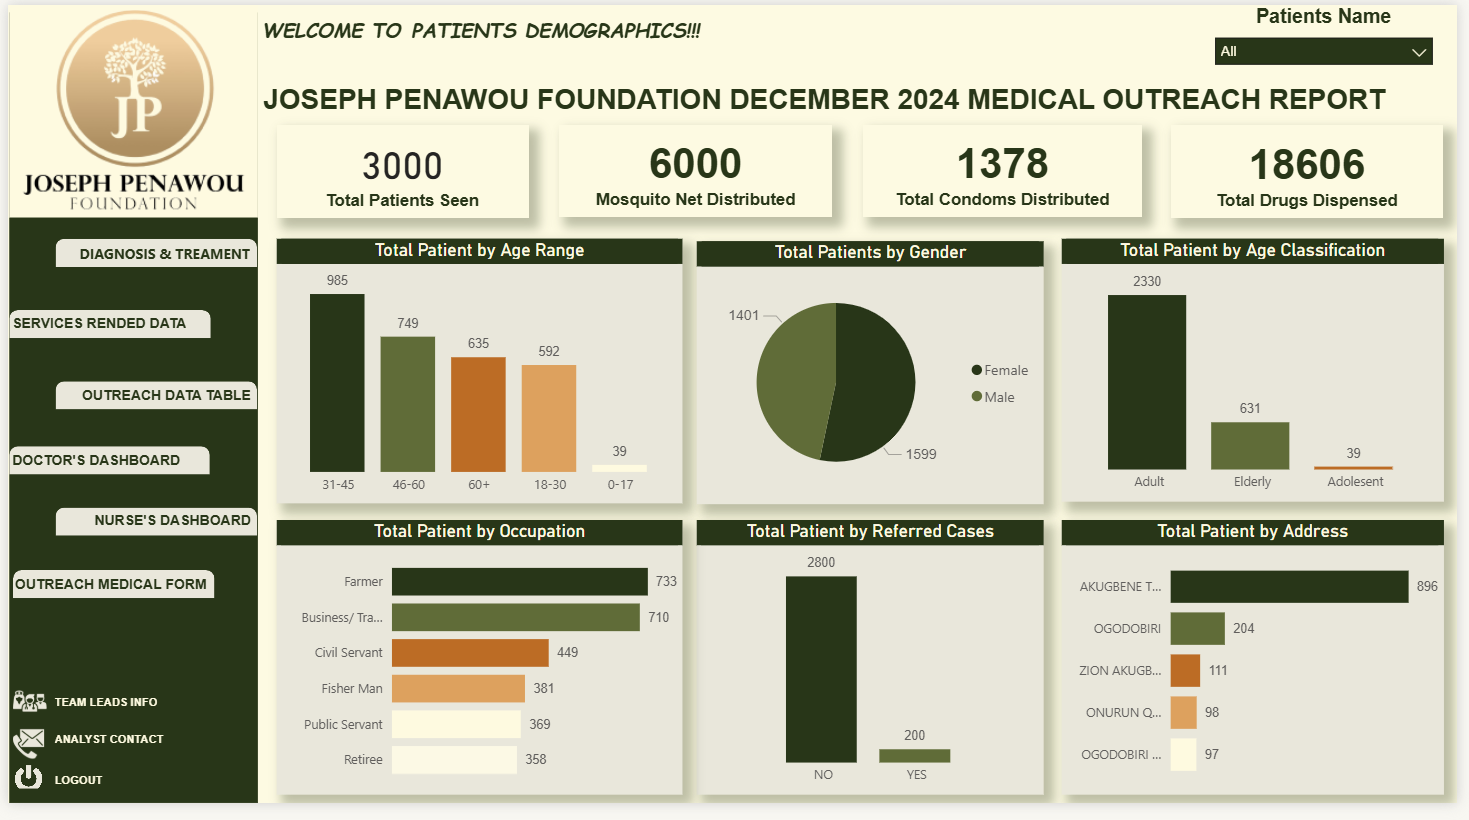

Layout of this report page (visuals, bound fields, positions):
{"tool":"powerbi","page":{"name":"PATIENT DEMOGRAPHICS","canvas":[1380,760],"ordinal":0},"visuals":[{"type":"shape","box":[1.2,6.7,237.1,752.8],"z":0,"group":"g10"},{"type":"shape","box":[45,222.6,192.1,27],"z":0,"group":"g4"},{"type":"shape","box":[1,291,192.1,27],"z":0,"group":"g5"},{"type":"shape","box":[45,358.5,192.1,27],"z":0,"group":"g3"},{"type":"shape","box":[1.2,420.3,191,27],"z":0,"group":"g2"},{"type":"shape","box":[45,477.6,192.1,27],"z":0,"group":"g1"},{"type":"shape","box":[4.4,539.1,192.1,27],"z":0,"group":"g6"},{"type":"actionButton","box":[40.6,647.2,119.1,34.8],"z":0,"group":"g7"},{"type":"image","box":[0,683.1,39.3,41.6],"z":0,"group":"g8"},{"type":"actionButton","box":[40.7,721.4,69.7,34.8],"z":0,"group":"g9"},{"type":"image","box":[1.2,0,237.1,202.2],"z":1000,"group":"g10"},{"type":"actionButton","box":[56.2,217,178.7,39.3],"z":1000,"group":"g4"},{"type":"actionButton","box":[-0.1,283.8,174.2,39.3],"z":1000,"group":"g5"},{"type":"actionButton","box":[48.4,352.9,186.5,39.3],"z":1000,"group":"g3"},{"type":"actionButton","box":[-0.1,413.9,186.5,39.3],"z":1000,"group":"g2"},{"type":"actionButton","box":[48.4,470.9,186.5,39.3],"z":1000,"group":"g1"},{"type":"actionButton","box":[1.2,532.7,193.3,39.3],"z":1000,"group":"g6"},{"type":"image","box":[0,636,41.6,53.9],"z":1000,"group":"g7"},{"type":"actionButton","box":[40.6,682,118,34.8],"z":1000,"group":"g8"},{"type":"image","box":[0.3,719.2,39.3,32.6],"z":1000,"group":"g9"},{"type":"textbox","box":[237.5,70.5,1094.3,44.3],"z":2000},{"type":"slicer","title":"Patients Name","fields":{"Values":["OUTREACH DATASET.PATIENT NAME"]},"box":[1139.8,0,227.3,61.4],"z":3000},{"type":"card","fields":{"Values":["CountNonNull(OUTREACH DATASET.PATIENT NAME)"]},"box":[255.7,114.8,239.8,88.6],"z":4000},{"type":"card","fields":{"Values":["Sum(OUTREACH DATASET.MOSQUITO NET DISTRUBUTED)"]},"box":[525,114.8,260.2,87.5],"z":5000},{"type":"card","fields":{"Values":["Sum(OUTREACH DATASET.CONDOMS DISTRIBUTED)"]},"box":[814.8,114.8,265.9,87.5],"z":6000},{"type":"card","fields":{"Values":["Sum(OUTREACH DATASET.QUANTITY OF DRUGS DISPENSED)"]},"box":[1106.8,114.8,260.2,88.6],"z":7000},{"type":"columnChart","title":"Total Patient by Age Range","fields":{"Category":["OUTREACH DATASET.AGE_RANGE"],"Y":["CountNonNull(OUTREACH DATASET.PATIENT NAME)"]},"box":[255.7,222.7,386.4,252.3],"z":8000},{"type":"pieChart","title":"Total Patients by Gender","fields":{"Y":["CountNonNull(OUTREACH DATASET.PATIENT NAME)"],"Category":["OUTREACH DATASET.GENDER"]},"box":[655.7,225,330.7,250],"z":9000},{"type":"columnChart","title":"Total Patient by Referred Cases","fields":{"Y":["CountNonNull(OUTREACH DATASET.PATIENT NAME)"],"Category":["OUTREACH DATASET.REFERRED (YES/NO)"]},"box":[655.7,490.9,330.7,261.4],"z":10000},{"type":"barChart","title":"Total Patient by Occupation","fields":{"Y":["CountNonNull(OUTREACH DATASET.PATIENT NAME)"],"Category":["OUTREACH DATASET.OCCUPATION"]},"box":[255.7,490.9,386.4,261.4],"z":11000},{"type":"columnChart","title":"Total Patient  by Age Classification","fields":{"Category":["Age Classification.Age Classification"],"Y":["CountNonNull(OUTREACH DATASET.PATIENT NAME)"]},"box":[1003.4,222.7,363.6,250],"z":12000},{"type":"barChart","title":"Total Patient by Address","fields":{"Category":["OUTREACH DATASET.PATIENT ADDRESS"],"Y":["CountNonNull(OUTREACH DATASET.PATIENT NAME)"]},"box":[1003.4,490.9,363.6,261.4],"z":13000},{"type":"textbox","box":[237.1,1.1,440.4,48.3],"z":14000},{"type":"group","id":"g1","title":"Group 1","box":[45,470.9,192.1,39.3],"z":15000,"group":"g10"},{"type":"group","id":"g2","title":"Group 2","box":[-0.1,413.9,192.3,39.3],"z":16000,"group":"g10"},{"type":"group","id":"g3","title":"Group 3","box":[45,352.9,192.1,39.3],"z":17000,"group":"g10"},{"type":"group","id":"g4","title":"Group 4","box":[45,217,192.1,39.3],"z":18000,"group":"g10"},{"type":"group","id":"g5","title":"Group 5","box":[-0.1,283.8,193.3,39.3],"z":19000,"group":"g10"},{"type":"group","id":"g6","title":"Group 6","box":[1.2,532.7,195.3,39.3],"z":20000,"group":"g10"},{"type":"group","id":"g7","title":"Group 7","box":[0,636,159.7,53.9],"z":21000,"group":"g10"},{"type":"group","id":"g8","title":"Group 8","box":[0,682,158.6,42.7],"z":22000,"group":"g10"},{"type":"group","id":"g9","title":"Group 9","box":[0.3,719.2,110.1,37.1],"z":23000,"group":"g10"},{"type":"group","id":"g10","title":"Dashboard side table","box":[-0.1,0,1379.9,759.6],"z":25001}]}

Visuals, with their boxes in screenshot pixels (x1, y1, x2, y2), scaled from the page's 1380x760 canvas onto the 1469x820 screenshot:
shape: crop(1, 7, 254, 819)
shape: crop(48, 240, 252, 269)
shape: crop(1, 314, 206, 343)
shape: crop(48, 387, 252, 416)
shape: crop(1, 453, 205, 483)
shape: crop(48, 515, 252, 544)
shape: crop(5, 582, 209, 611)
actionButton: crop(43, 698, 170, 736)
image: crop(0, 737, 42, 782)
actionButton: crop(43, 778, 118, 816)
image: crop(1, 0, 254, 218)
actionButton: crop(60, 234, 250, 277)
actionButton: crop(0, 306, 185, 349)
actionButton: crop(52, 381, 250, 423)
actionButton: crop(0, 447, 198, 489)
actionButton: crop(52, 508, 250, 550)
actionButton: crop(1, 575, 207, 617)
image: crop(0, 686, 44, 744)
actionButton: crop(43, 736, 169, 773)
image: crop(0, 776, 42, 811)
textbox: crop(253, 76, 1418, 124)
"Patients Name" slicer: crop(1213, 0, 1455, 66)
card - CountNonNull(OUTREACH DATASET.PATIENT NAME): crop(272, 124, 527, 219)
card - Sum(OUTREACH DATASET.MOSQUITO NET DISTRUBUTED): crop(559, 124, 836, 218)
card - Sum(OUTREACH DATASET.CONDOMS DISTRIBUTED): crop(867, 124, 1150, 218)
card - Sum(OUTREACH DATASET.QUANTITY OF DRUGS DISPENSED): crop(1178, 124, 1455, 219)
"Total Patient by Age Range" columnChart: crop(272, 240, 684, 512)
"Total Patients by Gender" pieChart: crop(698, 243, 1050, 512)
"Total Patient by Referred Cases" columnChart: crop(698, 530, 1050, 812)
"Total Patient by Occupation" barChart: crop(272, 530, 684, 812)
"Total Patient  by Age Classification" columnChart: crop(1068, 240, 1455, 510)
"Total Patient by Address" barChart: crop(1068, 530, 1455, 812)
textbox: crop(252, 1, 721, 53)
"Group 1" group: crop(48, 508, 252, 550)
"Group 2" group: crop(0, 447, 205, 489)
"Group 3" group: crop(48, 381, 252, 423)
"Group 4" group: crop(48, 234, 252, 277)
"Group 5" group: crop(0, 306, 206, 349)
"Group 6" group: crop(1, 575, 209, 617)
"Group 7" group: crop(0, 686, 170, 744)
"Group 8" group: crop(0, 736, 169, 782)
"Group 9" group: crop(0, 776, 118, 816)
"Dashboard side table" group: crop(0, 0, 1468, 819)
